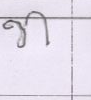i_matra: (30, 10, 53, 46)
